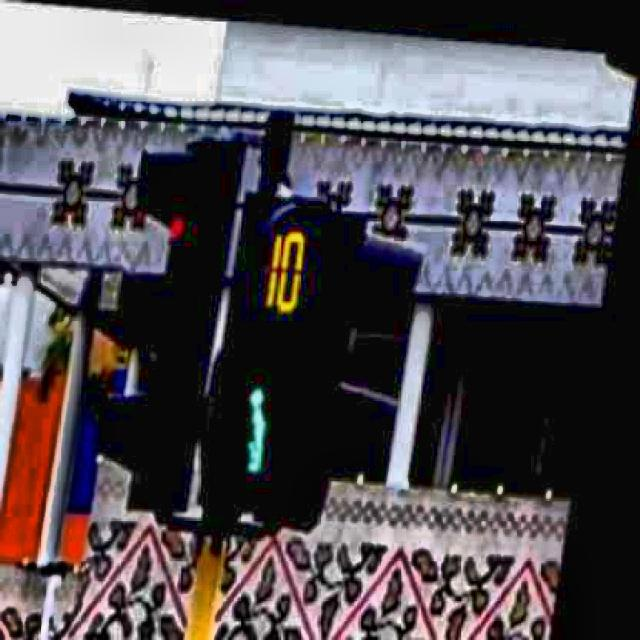semaforo pedestre: (146, 150, 428, 587)
